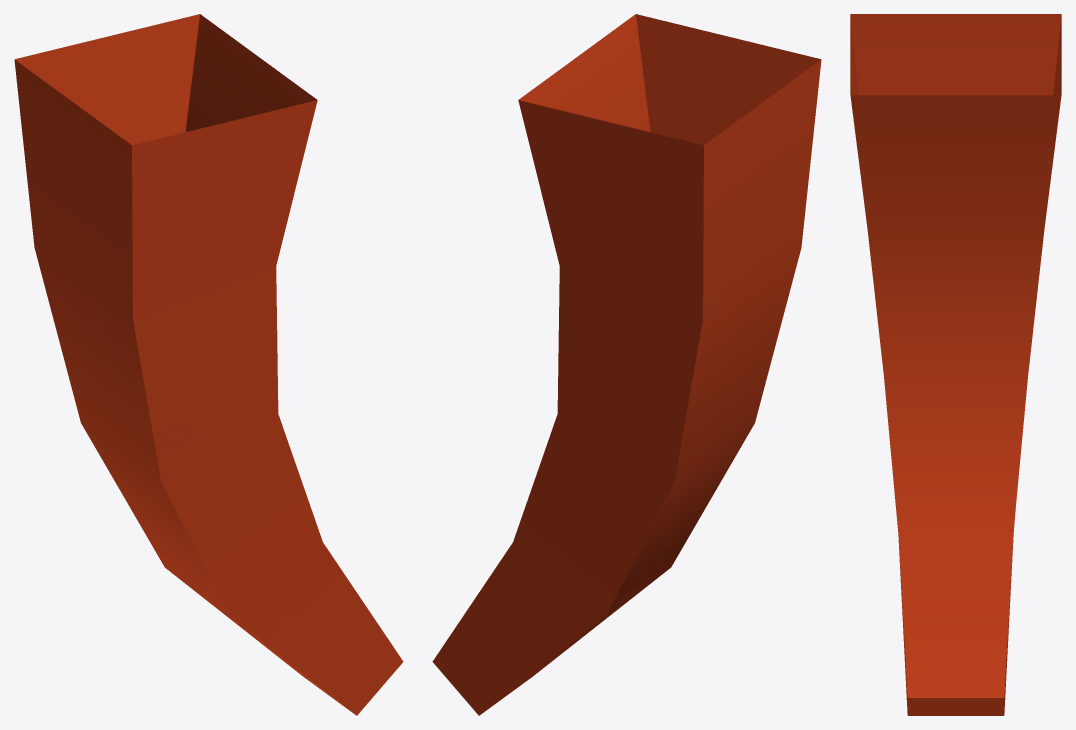
File: AR1_Trigger.fbx
The picture shows the model from 3 angles, left to right: view 1: azimuth 30°, elevation 25°; view 2: azimuth 150°, elevation 25°; view 3: azimuth 270°, elevation 25°; orthographic projection. The views are drawn at different scales.
Parts seen in each view (by area): view 1: AR1_Trigger; view 2: AR1_Trigger; view 3: AR1_Trigger.
Part boxes in pixels (x1=…): AR1_Trigger: x1=14, y1=14, x2=403, y2=715; AR1_Trigger: x1=432, y1=14, x2=821, y2=715; AR1_Trigger: x1=850, y1=14, x2=1061, y2=715.
Bounding box in the file's own units: 1.88 × 3.89 × 1.26.
